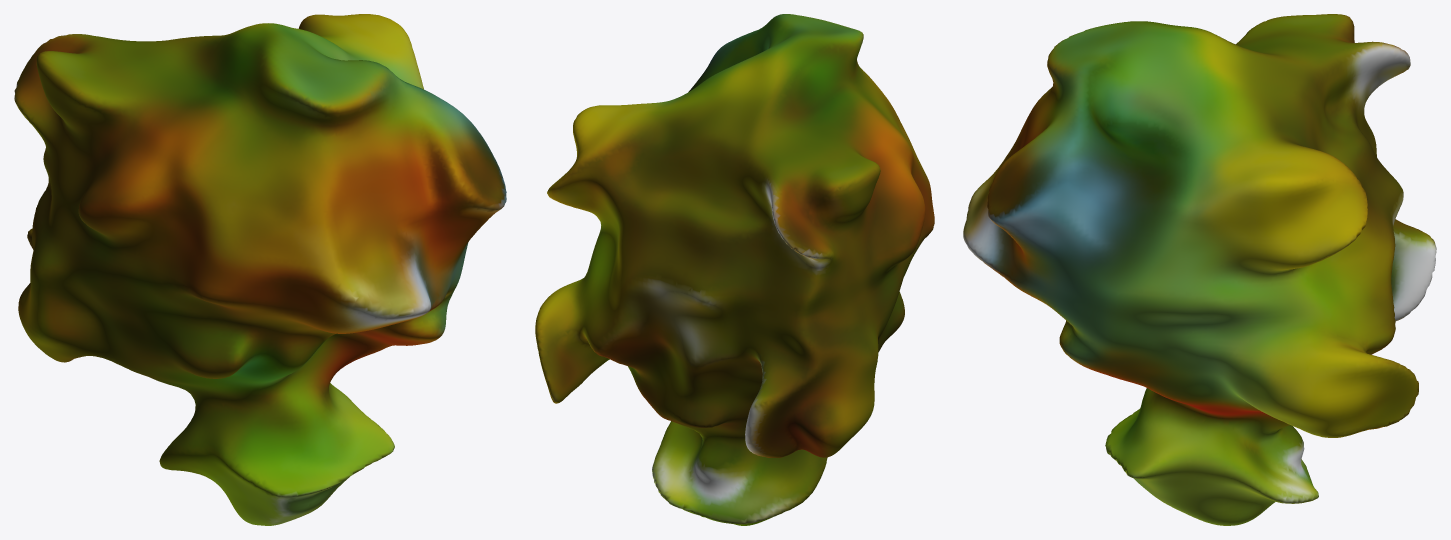
Rendered from turtle.glb.
The picture shows the model from 3 angles, left to right: view 1: azimuth 30°, elevation 25°; view 2: azimuth 150°, elevation 25°; view 3: azimuth 270°, elevation 25°; orthographic projection. The views are drawn at different scales.
Size of the model in its own units: 0.742 by 0.9996 by 0.8855.
